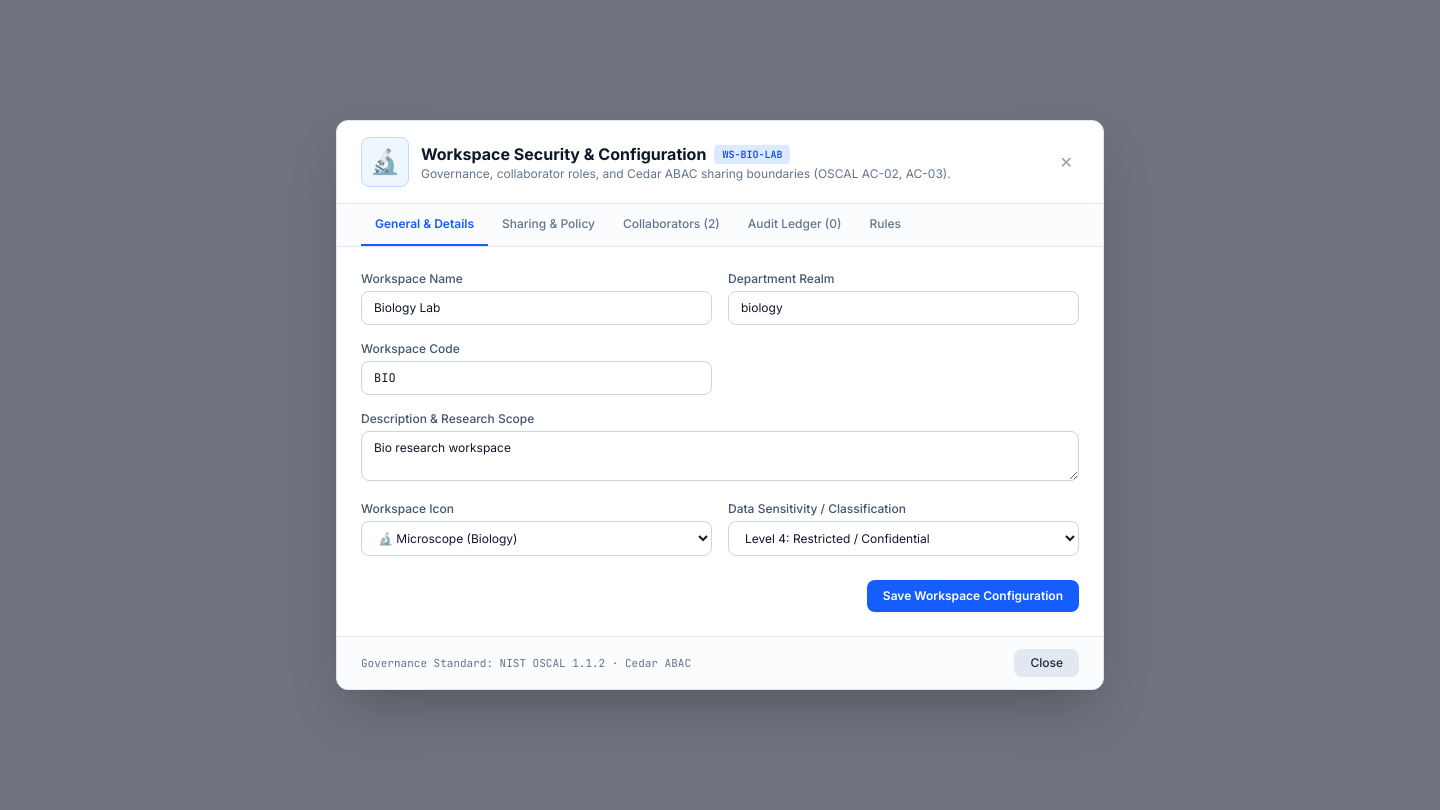
it: Workspace Guards Screen (Phase 3) › 4. A faculty member who is not an owner does not see Add a rule
The image size is (1440, 810).
Click the button with test id "guard-rules". click: (885, 225)
box: [855,204,915,246]
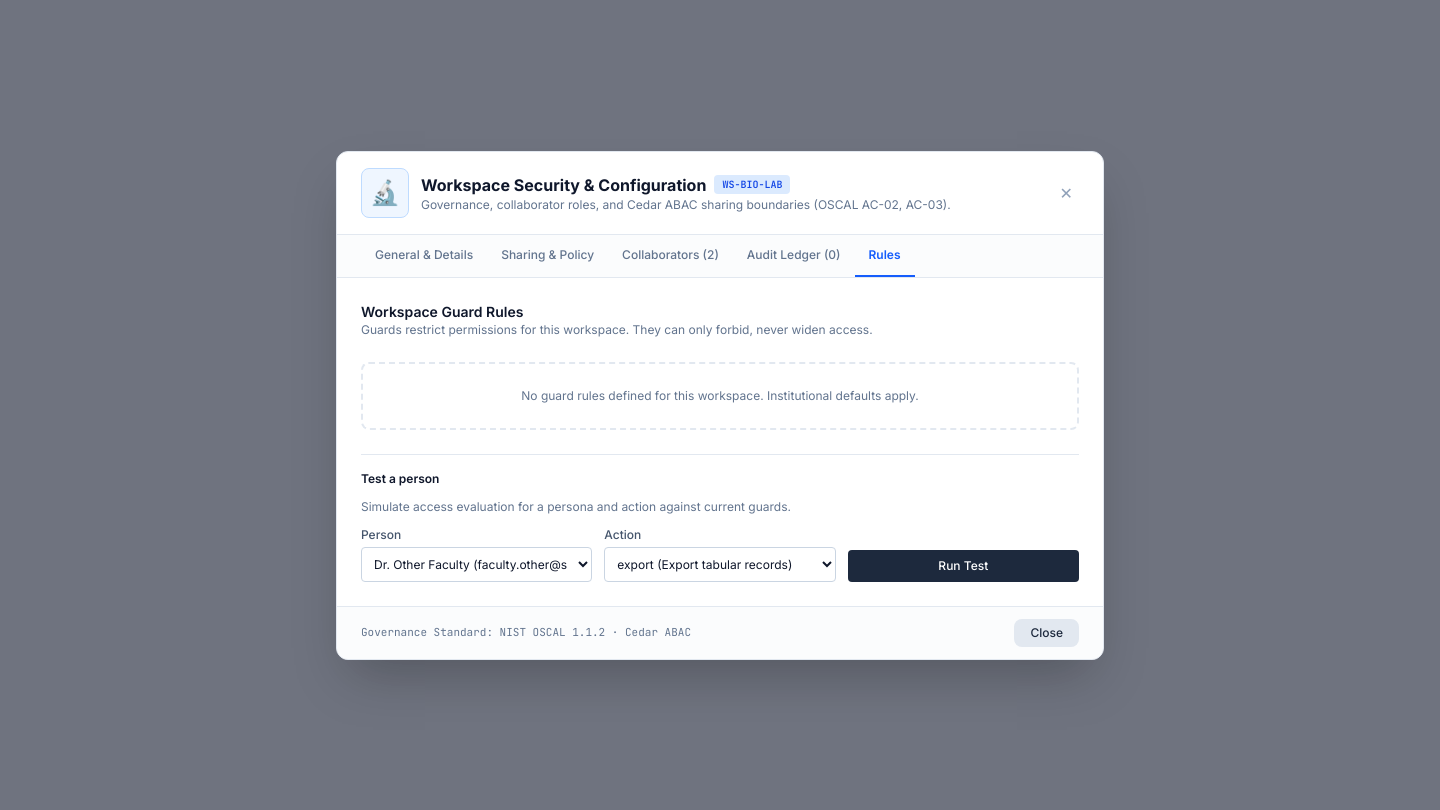
Expected: the element with test id "guard-rules-container" is shown, [361,302,1079,582]
